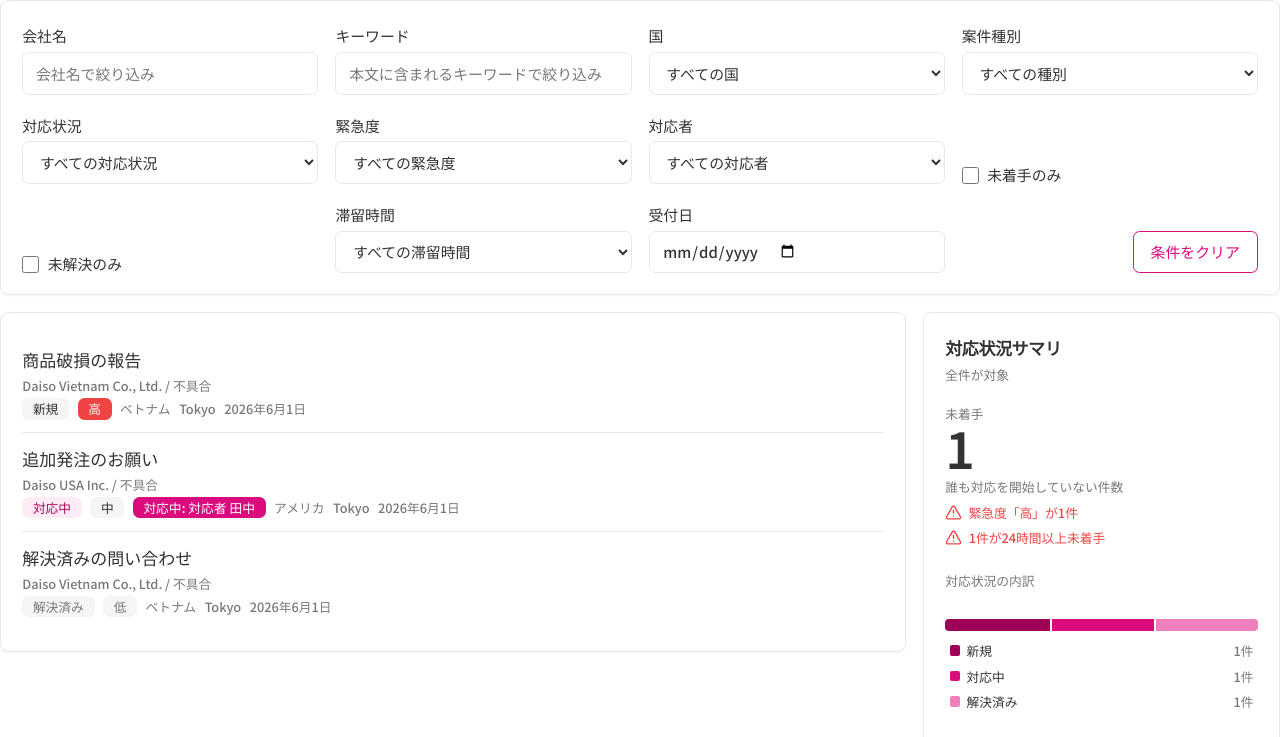
HelpdeskInquiryListClient › 未解決のみを選んだ状態で対応状況を解決済みに変更すると、未解決のみが解除され一覧が空にならない
Step 1. Click the checkbox labelled "未解決のみ" → point(31, 264), box [22,256,39,273]
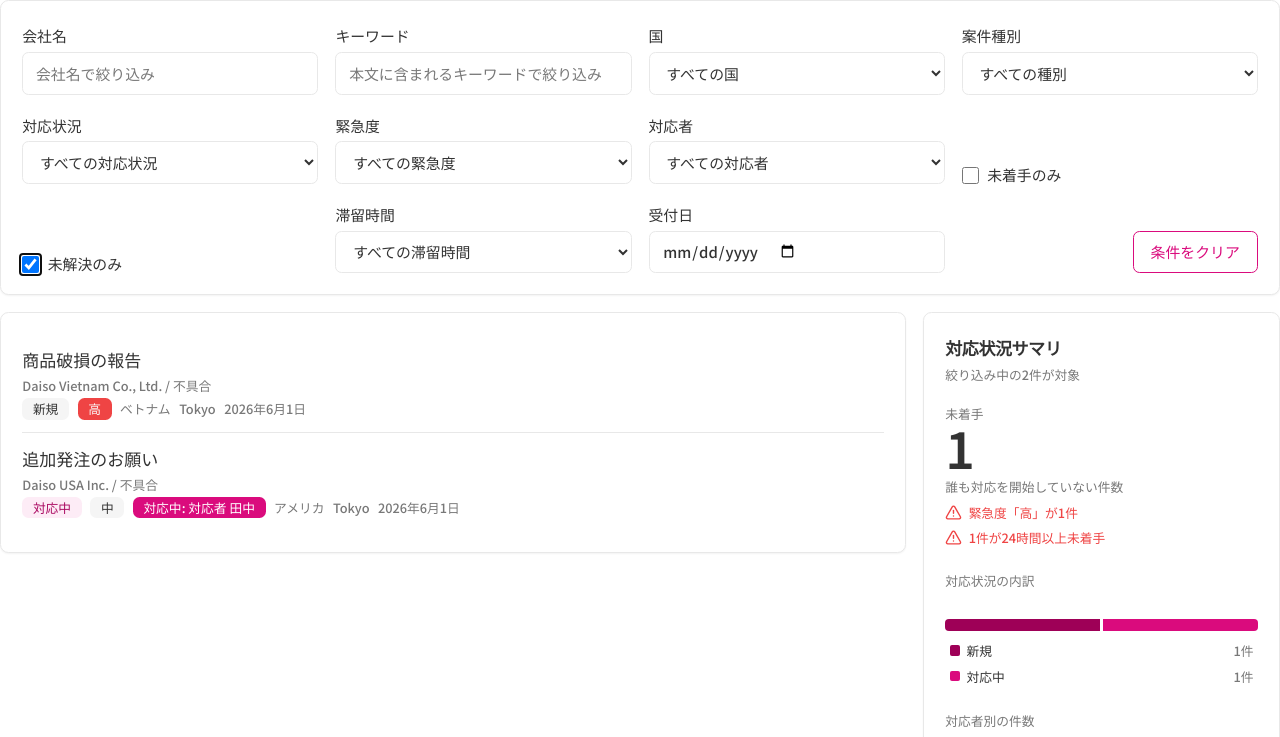
Step 2. Select "解決済み" in the dropdown labelled "対応状況" → point(170, 163), box [22,141,318,184]
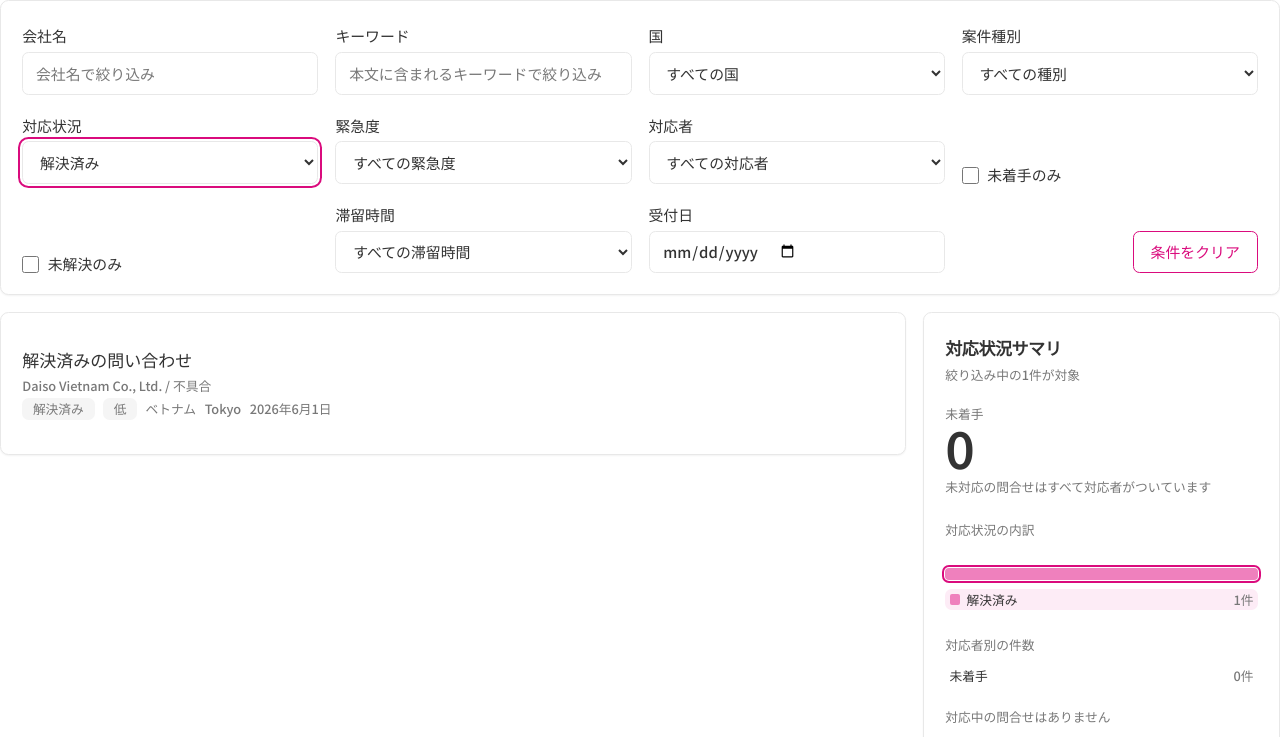
Expected: the checkbox labelled "未解決のみ" is not checked, [22,256,39,273]
Expected: the link "解決済みの問い合わせ" is shown, [22,347,192,372]
